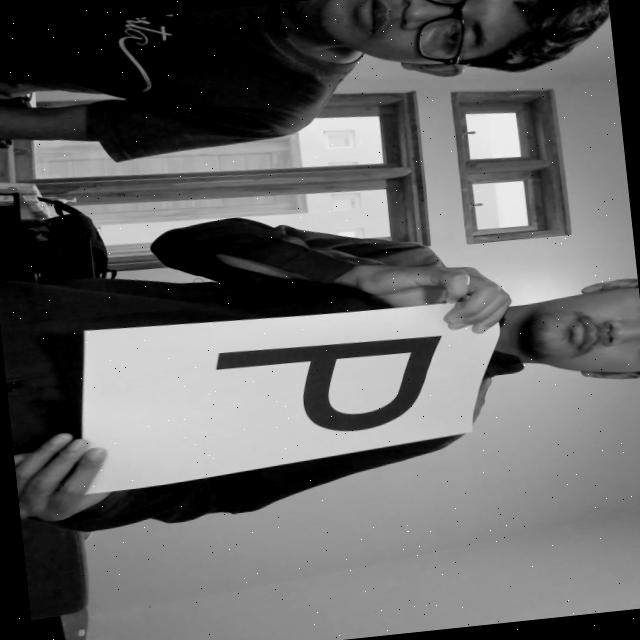p: (179, 316, 462, 464)
